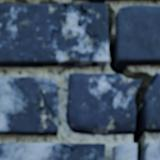brick: (0, 4, 107, 66), (0, 78, 57, 134), (116, 6, 159, 65), (0, 144, 93, 159), (70, 144, 104, 159)
broken_brick: (65, 72, 139, 135), (145, 72, 159, 133), (112, 142, 135, 159), (147, 140, 159, 159)
crack: (2, 0, 157, 159), (32, 83, 58, 117), (50, 142, 97, 159)
